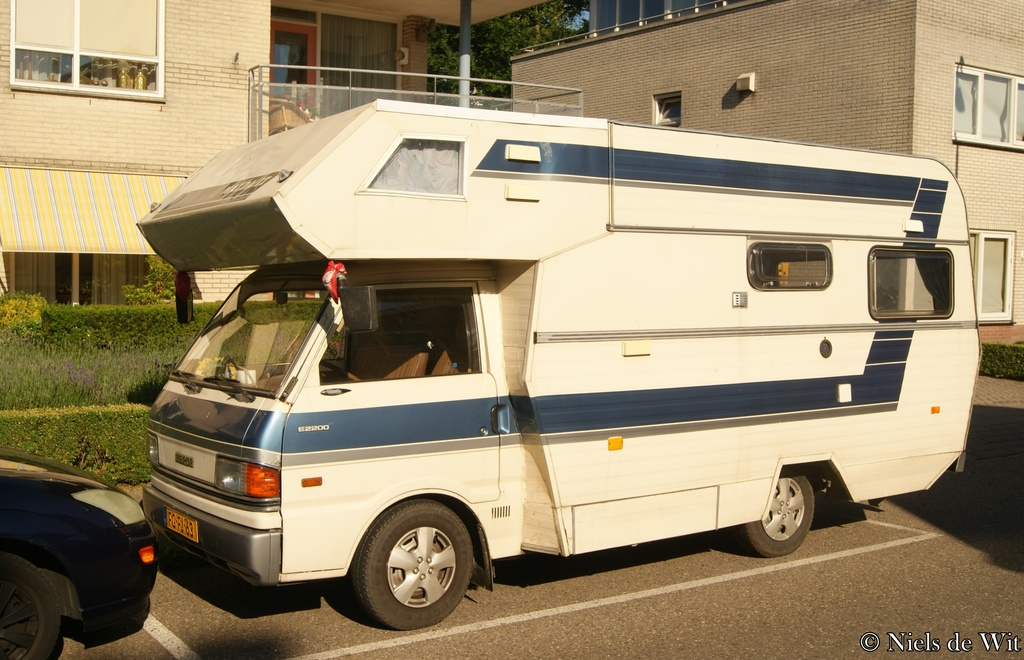Car: (0, 451, 153, 654)
